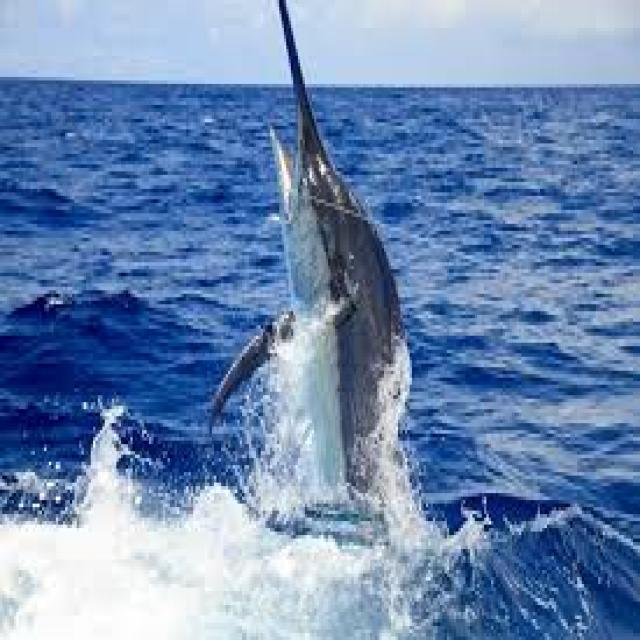Blue Marlin: (207, 4, 407, 504)
